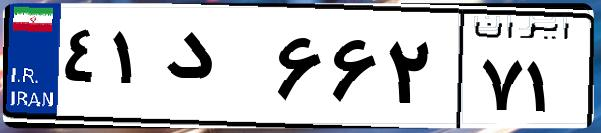1: (525, 38, 570, 115), (110, 28, 158, 98)
2: (385, 28, 445, 110)
4: (57, 26, 110, 100)
6: (270, 28, 330, 110), (330, 28, 385, 110)
7: (475, 38, 525, 113)
د: (158, 20, 270, 120)
